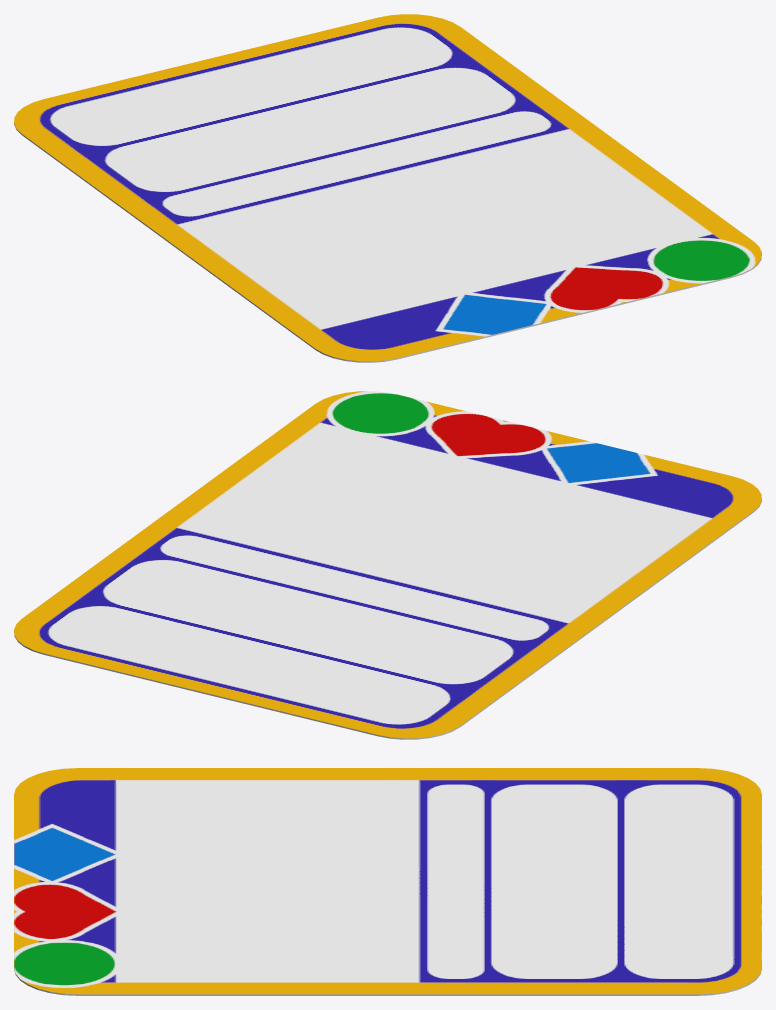
File: Card Model.fbx
3 views of the same model, one above another, from view 1: azimuth 30°, elevation 25°; view 2: azimuth 150°, elevation 25°; view 3: azimuth 270°, elevation 25° (orthographic). The views are drawn at different scales.
Parts seen in each view (by area): view 1: Cube; view 2: Cube; view 3: Cube.
Boxes of the visible parts, left/top/right/bottom form: Cube: left=14, top=14, right=761, bottom=362; Cube: left=14, top=391, right=761, bottom=739; Cube: left=14, top=768, right=761, bottom=995.
Bounding box in the file's own units: 126 × 0.4 × 176.
Materials: 3 (2 with a texture image).
